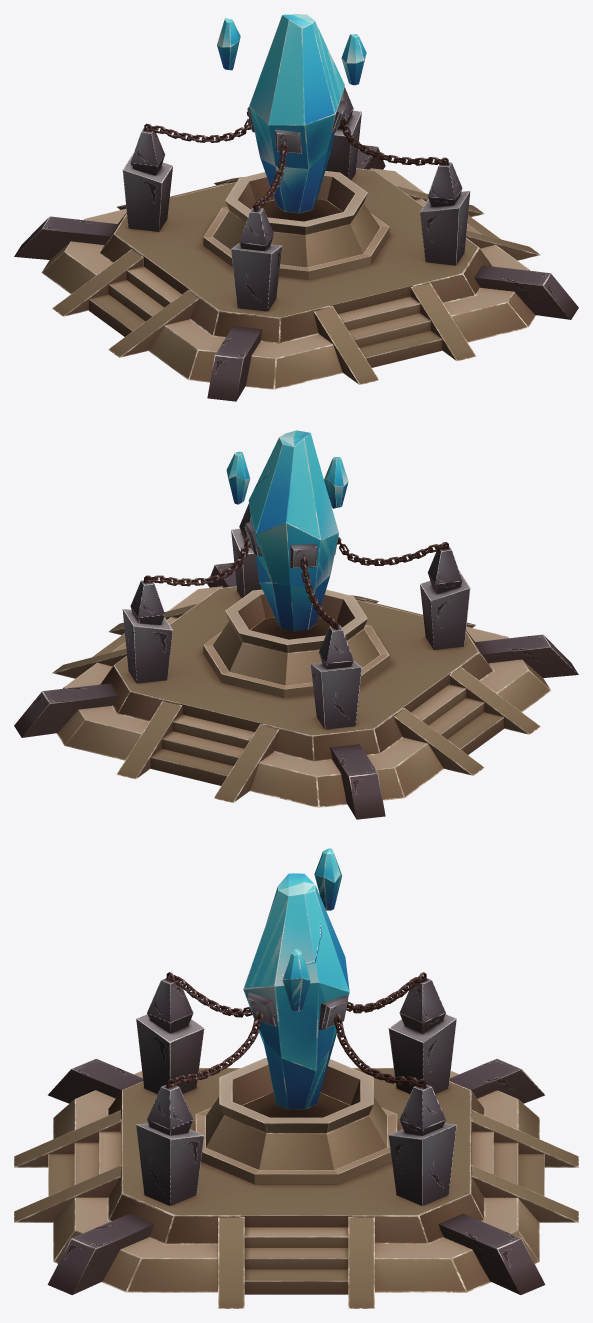
Rendered from Pylon.fbx.
3 renders of one model, top to bottom at view 1: azimuth 30°, elevation 25°; view 2: azimuth 150°, elevation 25°; view 3: azimuth 270°, elevation 25°, orthographic. The views are drawn at different scales.
Parts seen in each view (by area): view 1: Pylon; view 2: Pylon; view 3: Pylon.
Part boxes in pixels (<box>): Pylon: <box>14,14,578,401</box>; Pylon: <box>14,430,578,819</box>; Pylon: <box>14,848,578,1308</box>.
Size of the model in its own units: 8.49 by 5.15 by 8.49.
